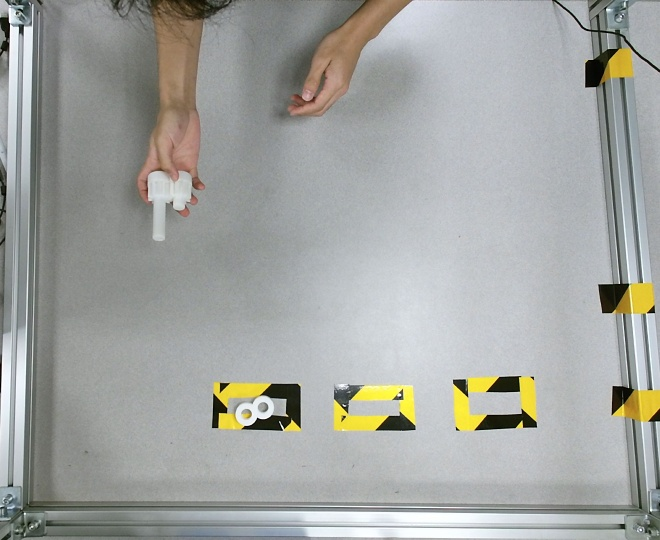stage_3: (147, 171, 191, 241)
